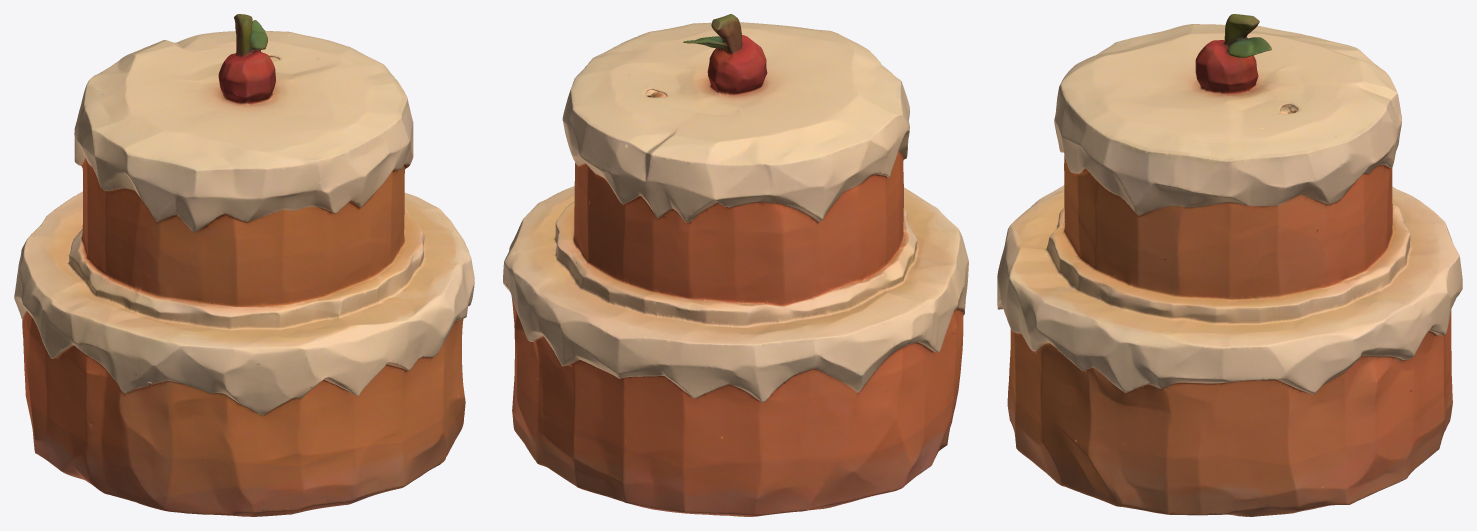
File: cake gigante 3d model.glb
The picture shows the model from 3 angles, left to right: view 1: azimuth 30°, elevation 25°; view 2: azimuth 150°, elevation 25°; view 3: azimuth 270°, elevation 25°; orthographic projection.
Size of the model in its own units: 1.99 by 2 by 1.98.
1 material, 1 textured.
